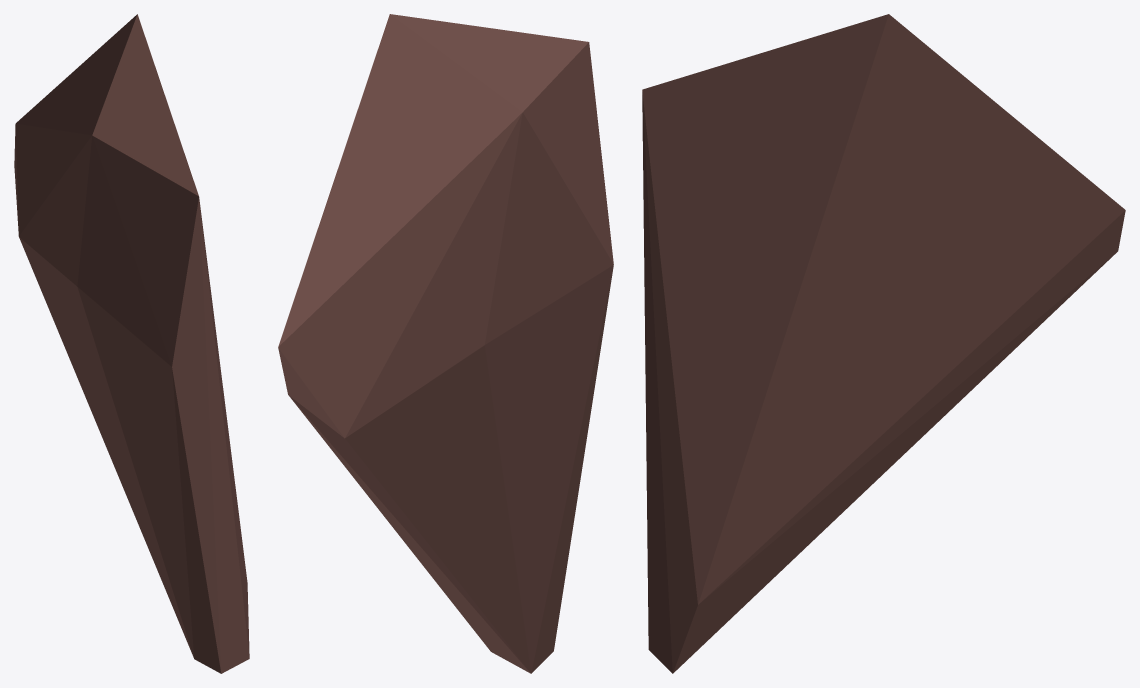
Rendered from Willow_Dead_1.lod4.glb.
The picture shows the model from 3 angles, left to right: view 1: azimuth 30°, elevation 25°; view 2: azimuth 150°, elevation 25°; view 3: azimuth 270°, elevation 25°; orthographic projection. The views are drawn at different scales.
Visible parts, largest first — view 1: Willow_Dead_1; view 2: Willow_Dead_1; view 3: Willow_Dead_1.
Part boxes in pixels (x1=…): Willow_Dead_1: x1=14, y1=14, x2=249, y2=673; Willow_Dead_1: x1=278, y1=14, x2=613, y2=673; Willow_Dead_1: x1=642, y1=14, x2=1125, y2=673.
Bounding box in the file's own units: 0.4921 × 2.71 × 1.82.
